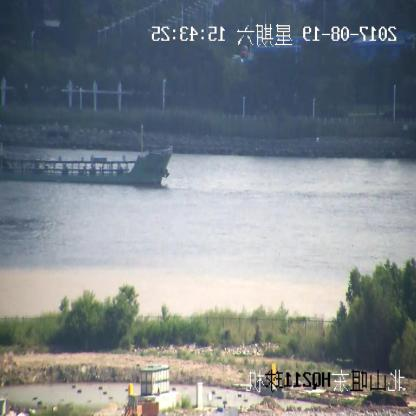Bulk Carrier: (0, 126, 172, 186)
